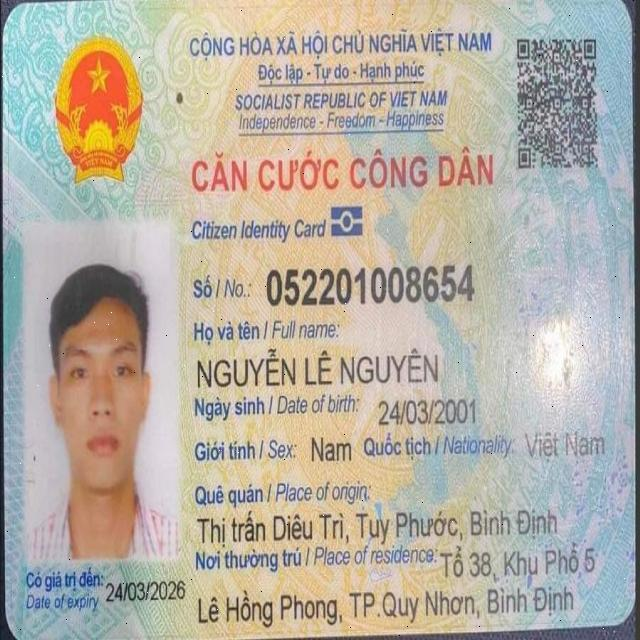current_place: (194, 583, 577, 626), (439, 542, 599, 583)
dob: (376, 394, 479, 429)
expire_date: (103, 575, 187, 610)
gender: (308, 432, 355, 470)
id: (265, 260, 481, 313)
name: (190, 345, 443, 390)
nationality: (523, 427, 609, 467)
origin_place: (194, 507, 565, 548)
